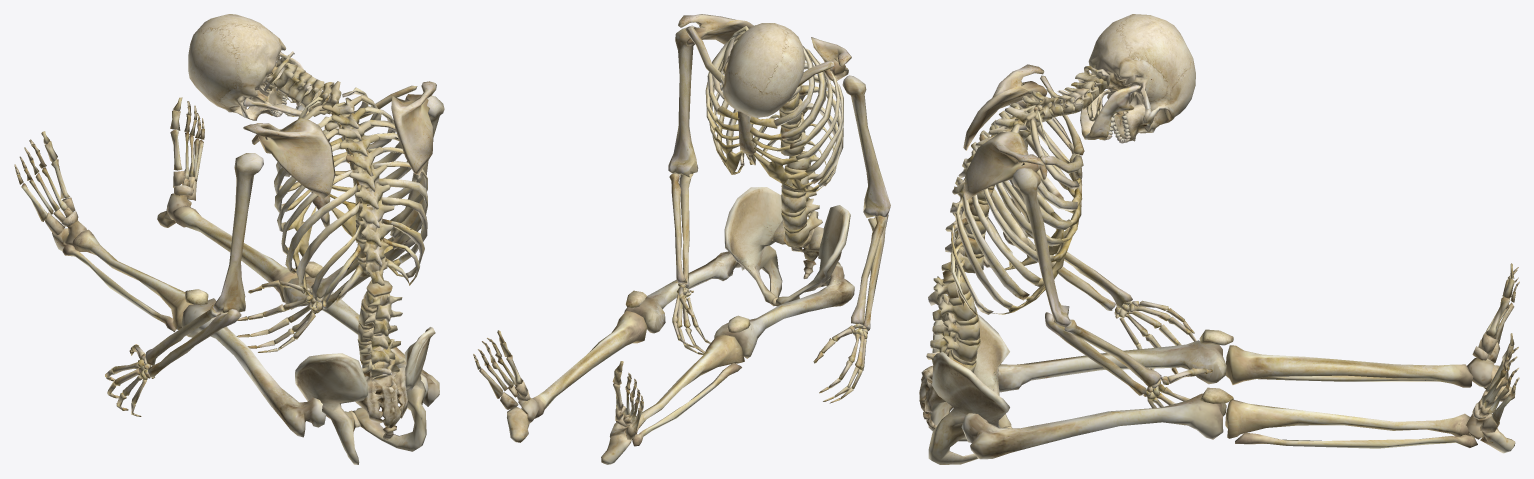
File: SkeletonSittingFloorMesh.fbx
The picture shows the model from 3 angles, left to right: view 1: azimuth 30°, elevation 25°; view 2: azimuth 150°, elevation 25°; view 3: azimuth 270°, elevation 25°; orthographic projection. The views are drawn at different scales.
Parts seen in each view (by area): view 1: blSkeleton_m4_35244_Shape; view 2: blSkeleton_m4_35244_Shape; view 3: blSkeleton_m4_35244_Shape.
Part boxes in pixels (left/top/right/bottom): blSkeleton_m4_35244_Shape: left=14, top=14, right=444, bottom=464; blSkeleton_m4_35244_Shape: left=473, top=14, right=890, bottom=464; blSkeleton_m4_35244_Shape: left=919, top=14, right=1519, bottom=464.
Bounding box in the file's own units: 57.29 × 79.22 × 106.
